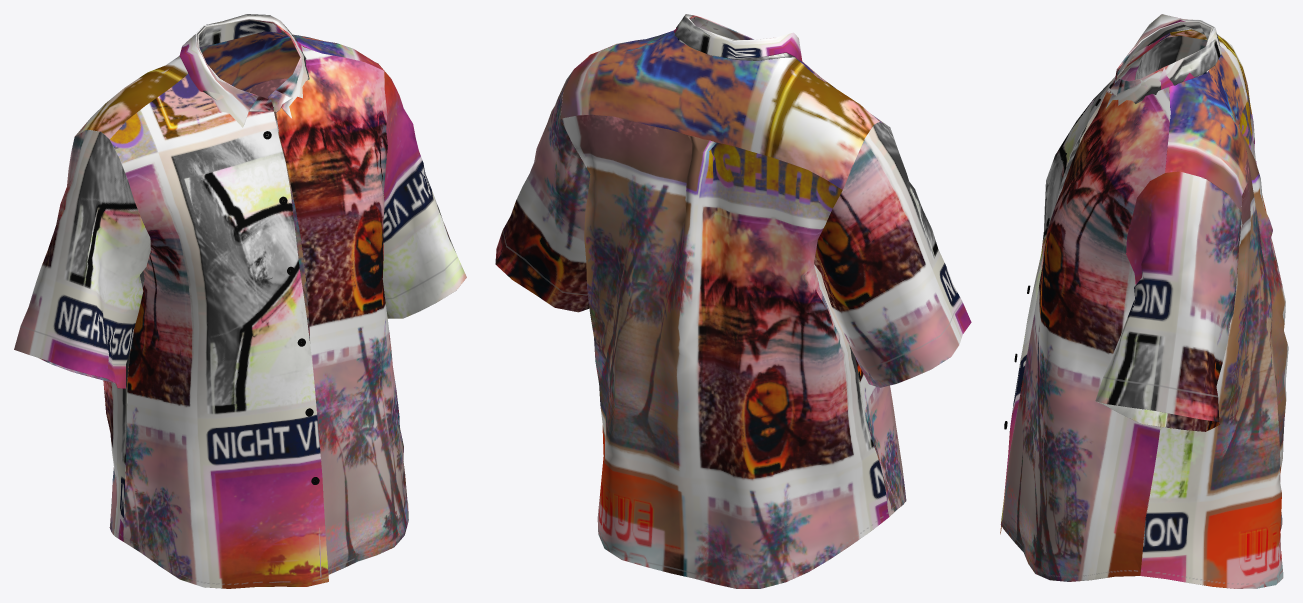
Rendered from resortblouselowpoly.fbx.
The picture shows the model from 3 angles, left to right: view 1: azimuth 30°, elevation 25°; view 2: azimuth 150°, elevation 25°; view 3: azimuth 270°, elevation 25°; orthographic projection. The views are drawn at different scales.
Parts seen in each view (by area): view 1: 凯信-RESORT BLOUSE_袖面_4; view 2: 凯信-RESORT BLOUSE_袖面_4; view 3: 凯信-RESORT BLOUSE_袖面_4.
Part boxes in pixels (bbox=[...]): 凯信-RESORT BLOUSE_袖面_4: bbox=[14, 14, 466, 588]; 凯信-RESORT BLOUSE_袖面_4: bbox=[495, 14, 971, 588]; 凯信-RESORT BLOUSE_袖面_4: bbox=[1000, 14, 1288, 588].
Size of the model in its own units: 61.49 by 67.99 by 34.09.
Materials: 33 (33 with a texture image).
